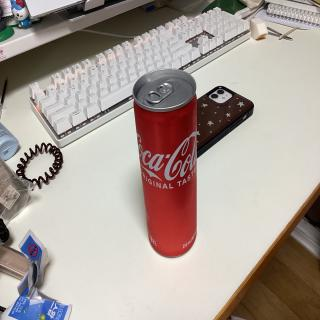cocacola: (130, 66, 206, 265)
